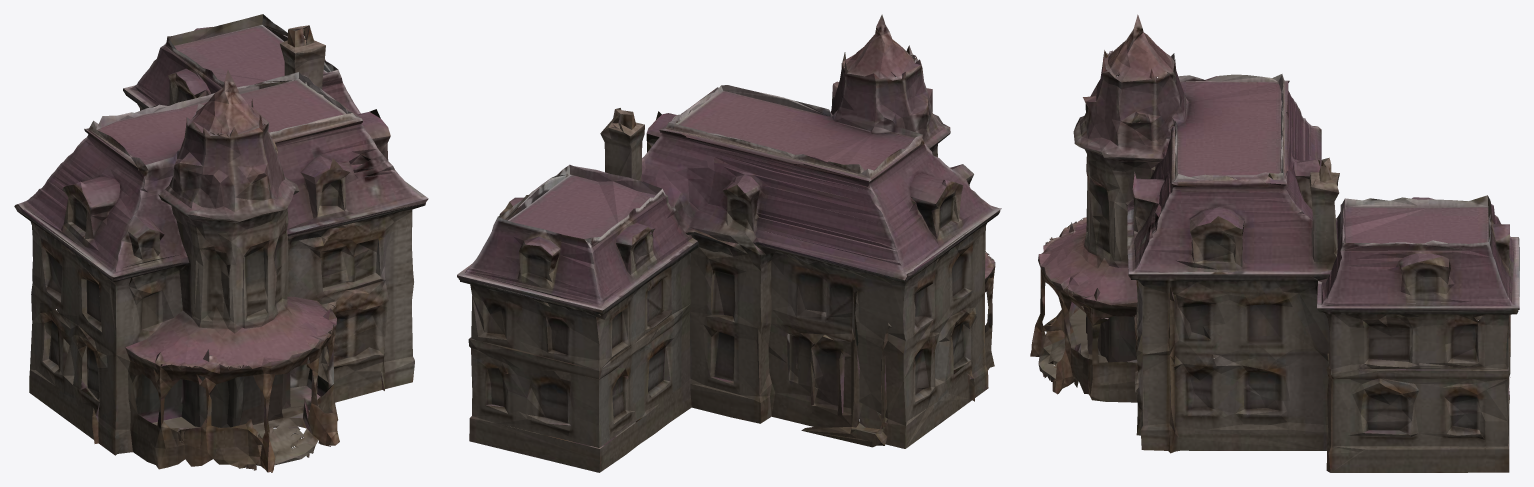
File: park_haunted_mansion_1117.glb
3 views of the same model, side by side, from view 1: azimuth 30°, elevation 25°; view 2: azimuth 150°, elevation 25°; view 3: azimuth 270°, elevation 25° (orthographic). The views are drawn at different scales.
Parts seen in each view (by area): view 1: world; view 2: world; view 3: world.
Boxes of the visible parts, x1=… form: world: x1=14, y1=14, x2=428, y2=472; world: x1=457, y1=14, x2=1001, y2=472; world: x1=1030, y1=14, x2=1519, y2=472.
Size of the model in its own units: 1.06 by 1 by 1.27.
1 material, 1 textured.
